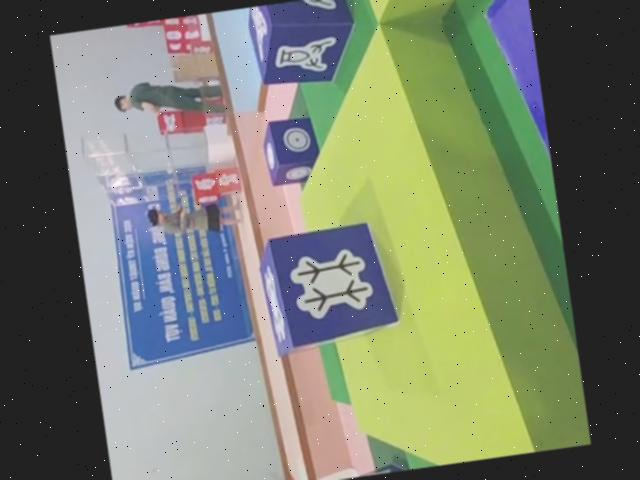R2 Real Blue: (257, 219, 406, 357), (243, 0, 365, 94), (258, 114, 323, 188)
